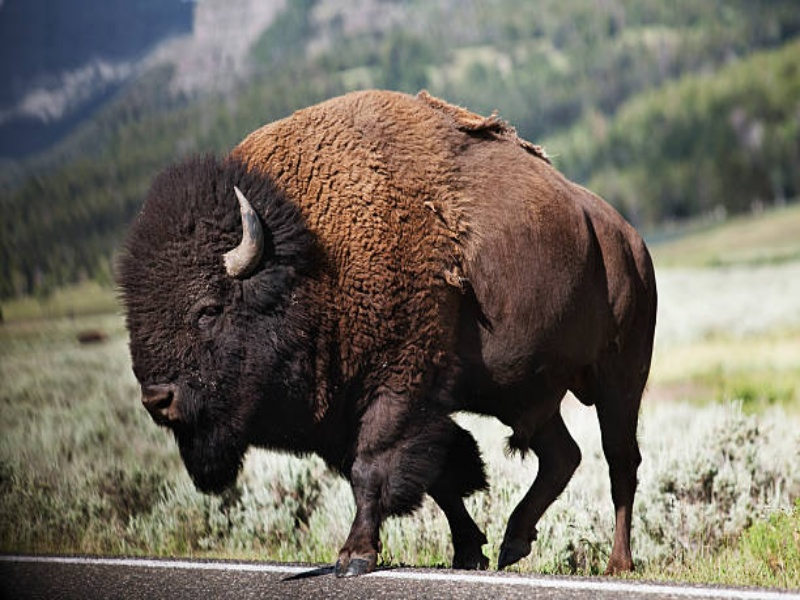buffalo: (109, 87, 661, 579)
